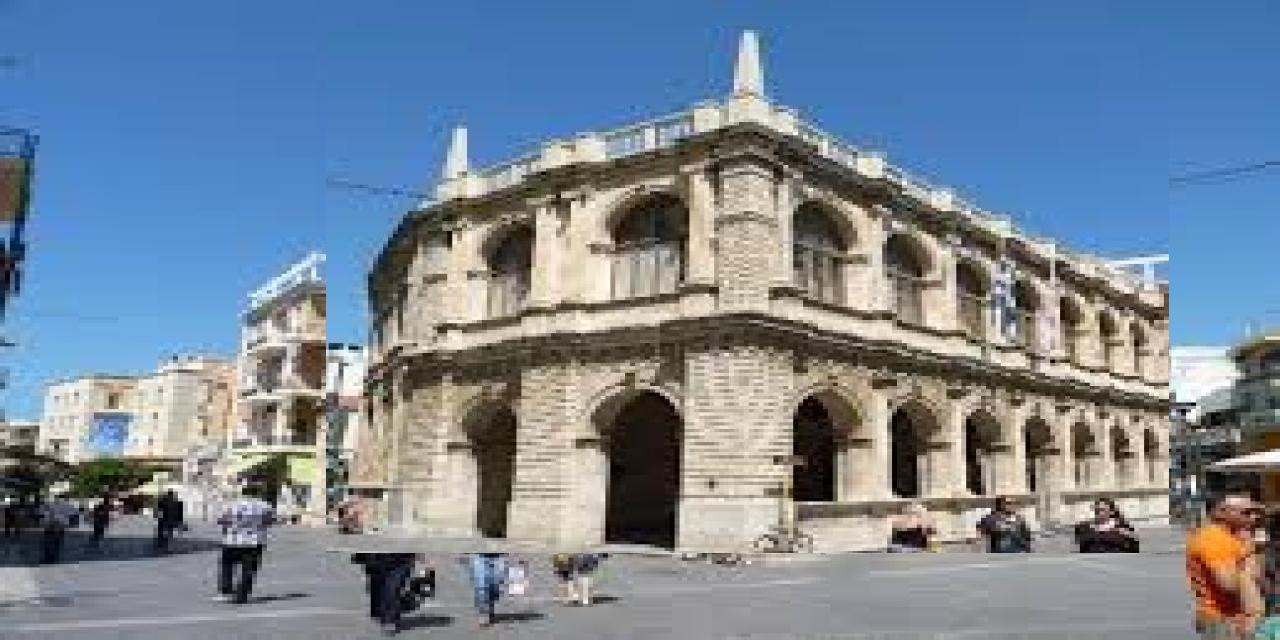Loggia: (327, 29, 1170, 554)
